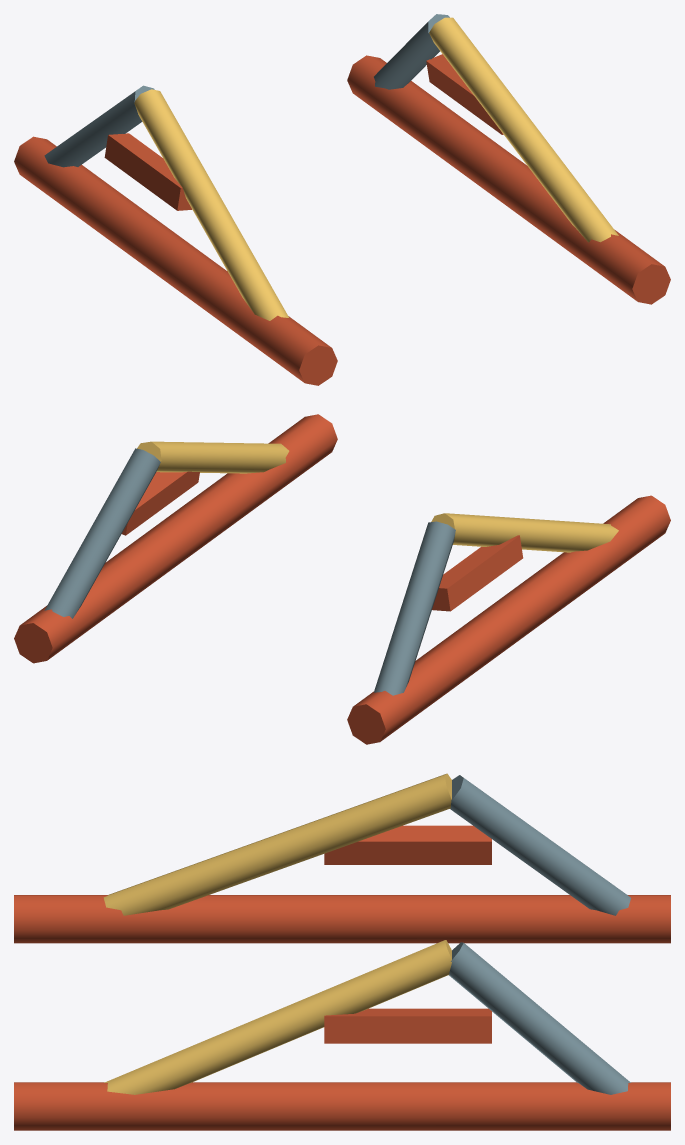
The model's file is upgrade-scrap_frame.glb.
3 views of the same model, one above another, from view 1: azimuth 30°, elevation 25°; view 2: azimuth 150°, elevation 25°; view 3: azimuth 270°, elevation 25° (orthographic). The views are drawn at different scales.
Parts seen in each view (by area): view 1: upgrade-scrap_frame; view 2: upgrade-scrap_frame; view 3: upgrade-scrap_frame.
Part boxes in pixels (x1,y1,x2,y2): upgrade-scrap_frame: (14,14,670,385); upgrade-scrap_frame: (14,414,670,744); upgrade-scrap_frame: (14,773,670,1130).
Size of the model in its own units: 1.92 by 0.7642 by 2.55.
